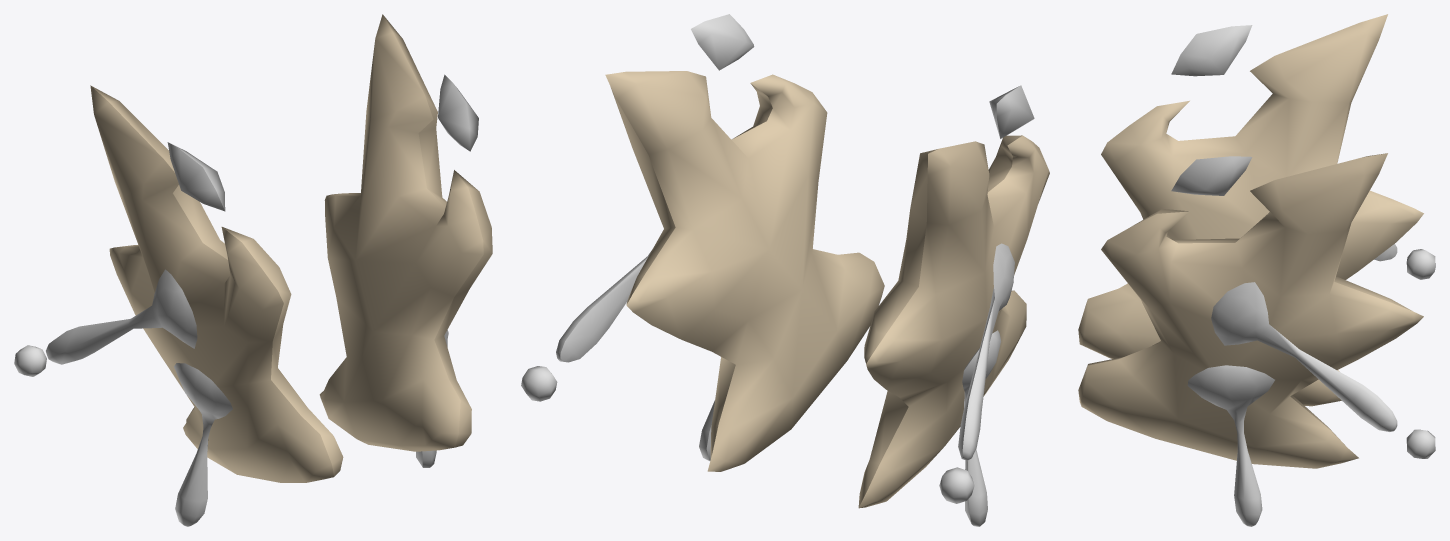
The model's file is S12_Reptile06_L2_Back.glb.
The picture shows the model from 3 angles, left to right: view 1: azimuth 30°, elevation 25°; view 2: azimuth 150°, elevation 25°; view 3: azimuth 270°, elevation 25°; orthographic projection. The views are drawn at different scales.
Parts seen in each view (by area): view 1: S12_Reptile06_L2_Back__Back_M__surface0__lod0; view 2: S12_Reptile06_L2_Back__Back_M__surface0__lod0; view 3: S12_Reptile06_L2_Back__Back_M__surface0__lod0.
Part boxes in pixels (x1,y1,x2,y2): S12_Reptile06_L2_Back__Back_M__surface0__lod0: [14, 14, 492, 526]; S12_Reptile06_L2_Back__Back_M__surface0__lod0: [521, 14, 1049, 526]; S12_Reptile06_L2_Back__Back_M__surface0__lod0: [1078, 14, 1435, 526].
Size of the model in its own units: 81.49 by 75.93 by 63.82.
